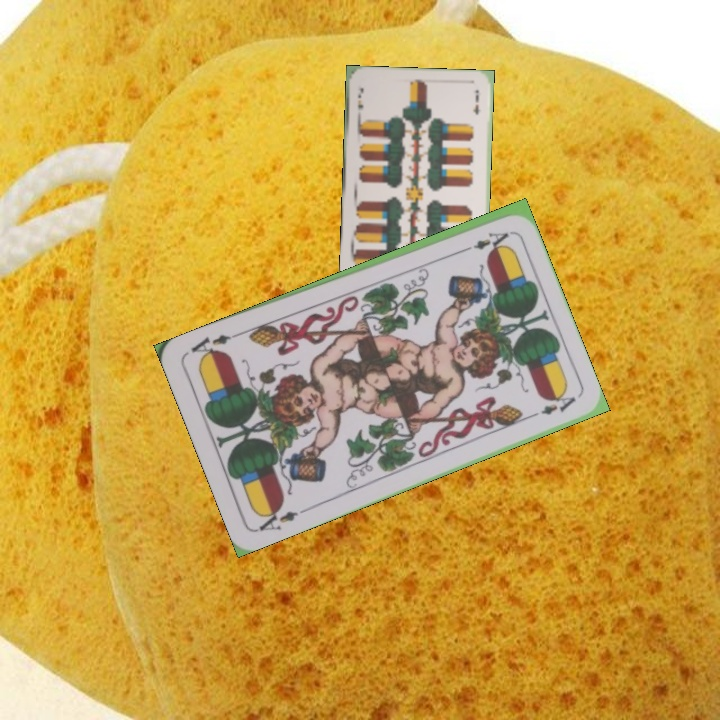E7: (353, 84, 366, 121)
EA: (253, 502, 310, 534), (455, 228, 511, 256)
